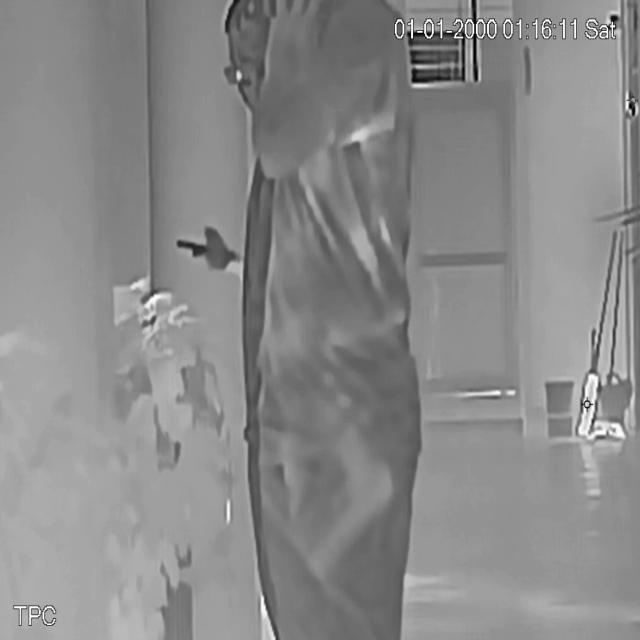Weapon: (282, 408, 397, 587)
